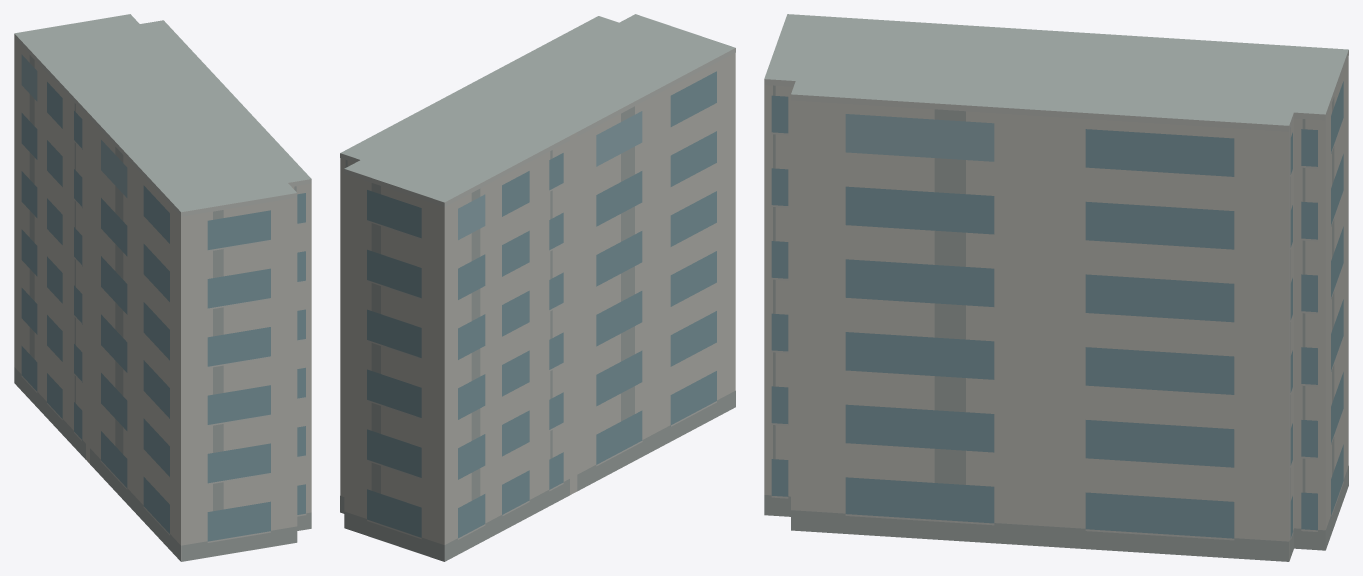
Rendered from survey-upis-32970498.glb.
3 renders of one model, left to right at view 1: azimuth 30°, elevation 25°; view 2: azimuth 150°, elevation 25°; view 3: azimuth 270°, elevation 25°, orthographic. The views are drawn at different scales.
Parts seen in each view (by area): view 1: survey-upis-32970498.tmp; view 2: survey-upis-32970498.tmp; view 3: survey-upis-32970498.tmp.
Boxes of the visible parts, box(x1,y1,x2,y2) form: survey-upis-32970498.tmp: box(14, 14, 311, 561); survey-upis-32970498.tmp: box(340, 14, 735, 561); survey-upis-32970498.tmp: box(764, 14, 1348, 561).
Size of the model in its own units: 10.02 by 18.2 by 22.12.
